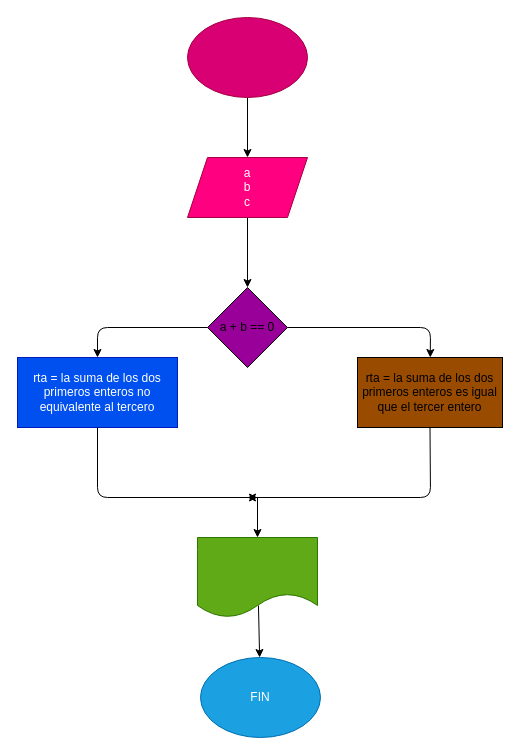
Some shapes in this 520 by 755 pixel diagram are drawn without their labels. The shapes that lost their labels are listed below. From the top down, each one's centre as x and y in pixels, then its label:
At [247,57]: "INICIO".
At [257,577]: "rta".
